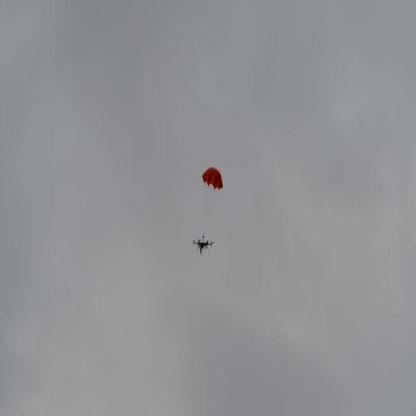drone: (193, 230, 215, 256)
